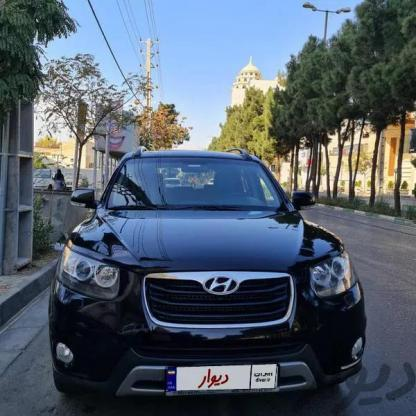Car: (44, 147, 362, 416), (31, 167, 67, 190), (62, 172, 88, 190)
